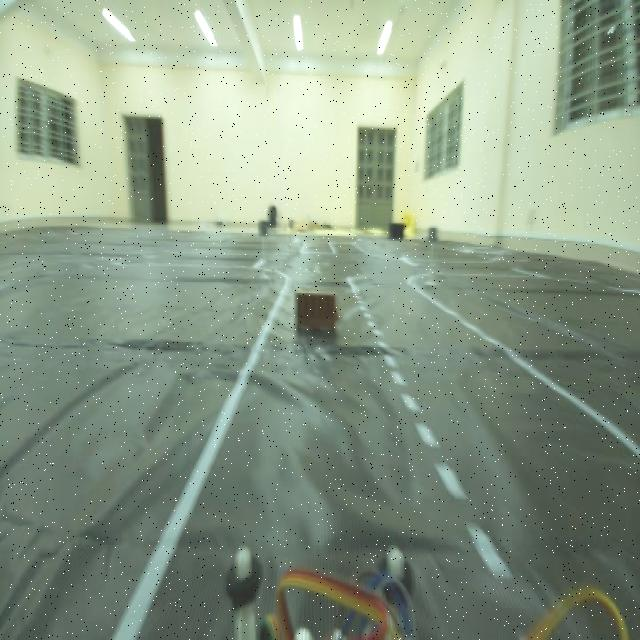roadblock: (289, 284, 342, 348)
